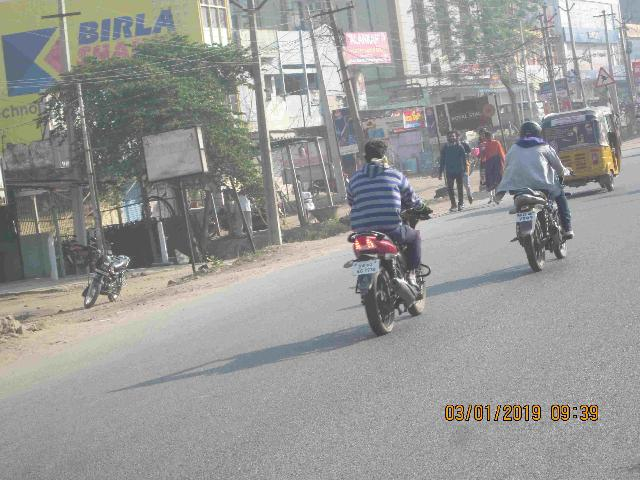helm: (520, 121, 545, 144)
motor: (346, 199, 437, 336), (508, 168, 578, 273)
non-helm: (363, 139, 391, 172)
